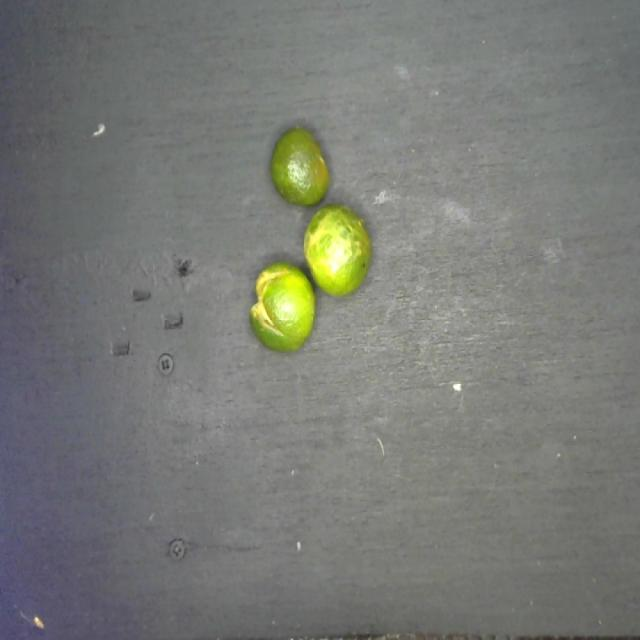biodegradable: (239, 120, 380, 369)
